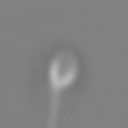normal: (36, 88, 75, 128)
